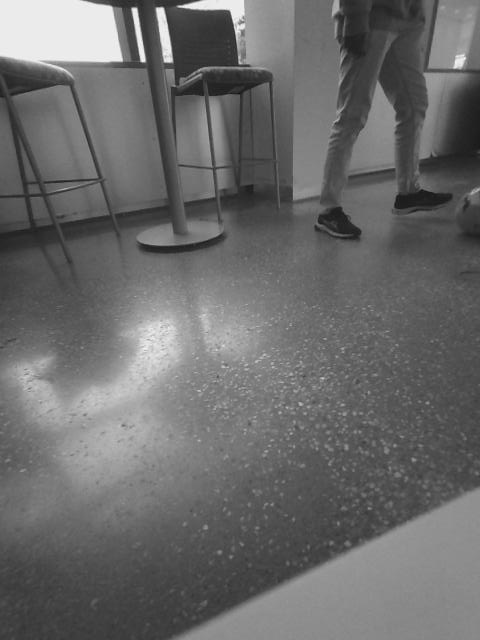ball: (453, 180, 480, 238)
